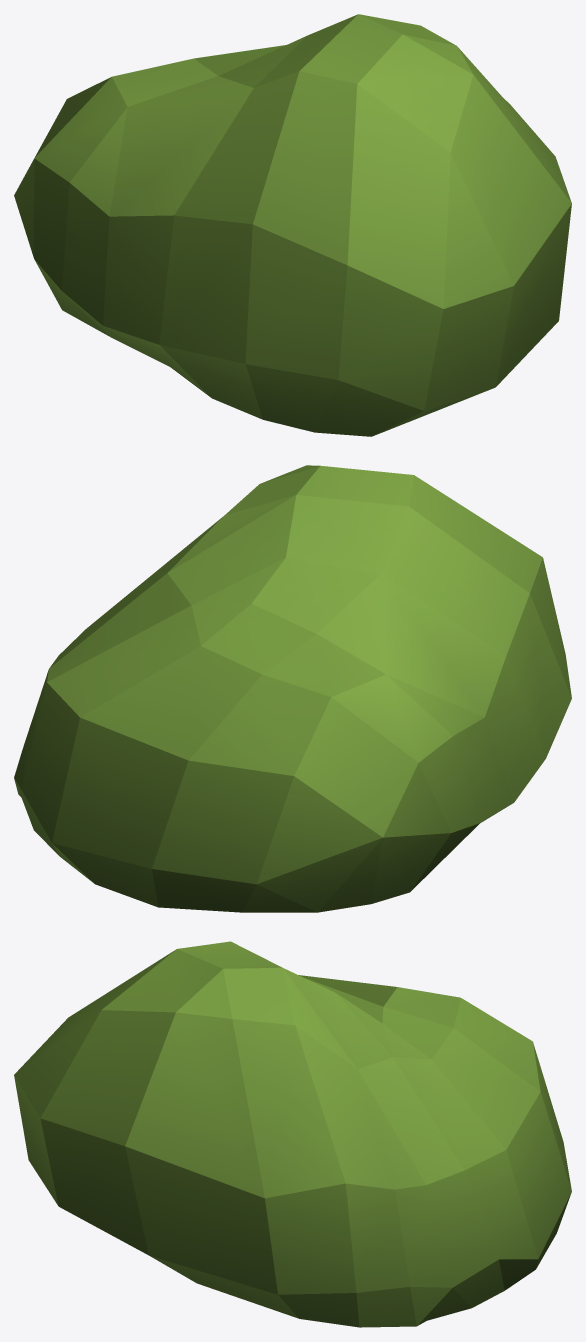
File: Cavern_Bush-02.fbx
3 views of the same model, one above another, from view 1: azimuth 30°, elevation 25°; view 2: azimuth 150°, elevation 25°; view 3: azimuth 270°, elevation 25° (orthographic). The views are drawn at different scales.
Parts seen in each view (by area): view 1: Cavern_Bush-02; view 2: Cavern_Bush-02; view 3: Cavern_Bush-02.
Part boxes in pixels (box(x1,y1,x2,y2)): Cavern_Bush-02: box(14, 14, 571, 436); Cavern_Bush-02: box(14, 465, 571, 912); Cavern_Bush-02: box(14, 941, 571, 1327).
Size of the model in its own units: 231 by 153 by 278.
1 material, 1 textured.
